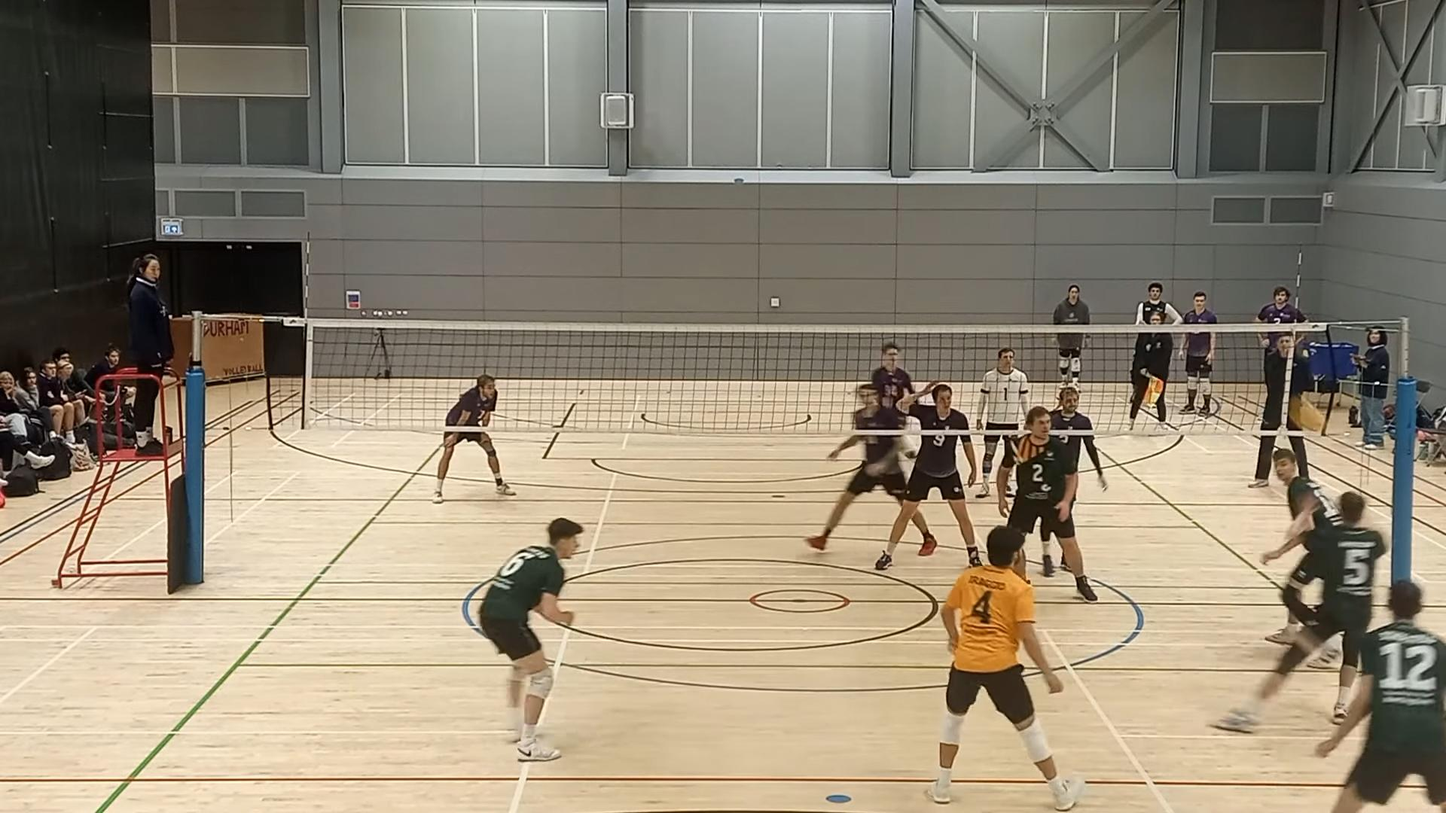ricezione: (1210, 487, 1391, 744)
